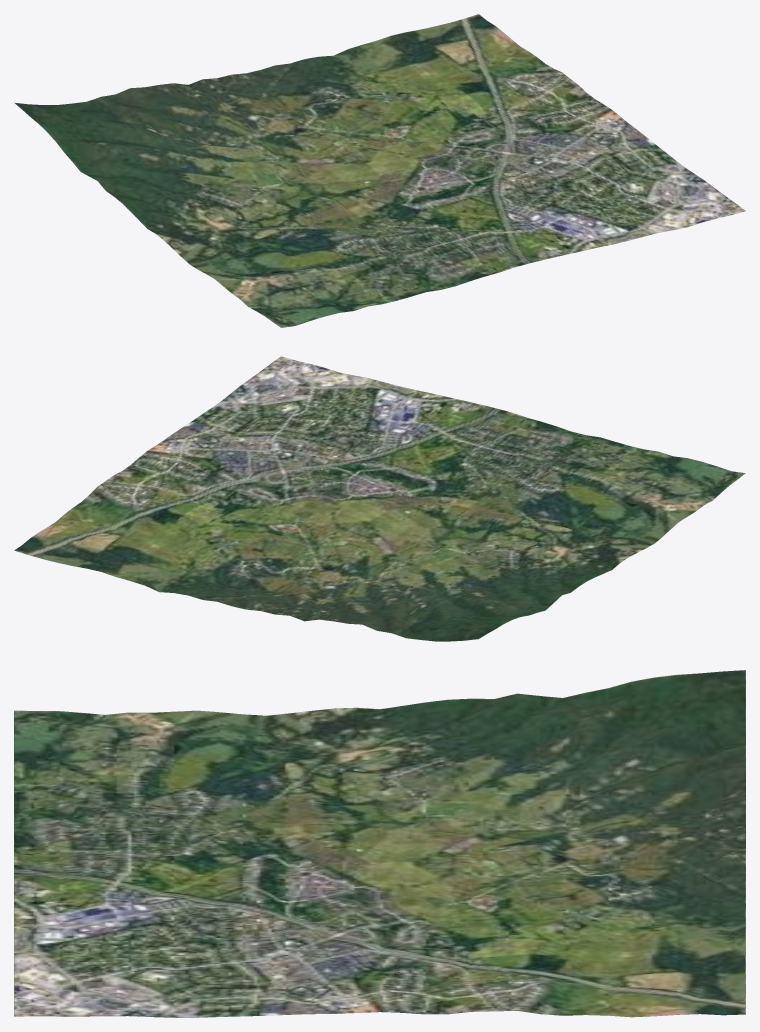
3 views of the same model, one above another, from view 1: azimuth 30°, elevation 25°; view 2: azimuth 150°, elevation 25°; view 3: azimuth 270°, elevation 25° (orthographic). The views are drawn at different scales.
Bounding box in the file's own units: 3900 × 268 × 3883.
Materials: 1 (1 with a texture image).
